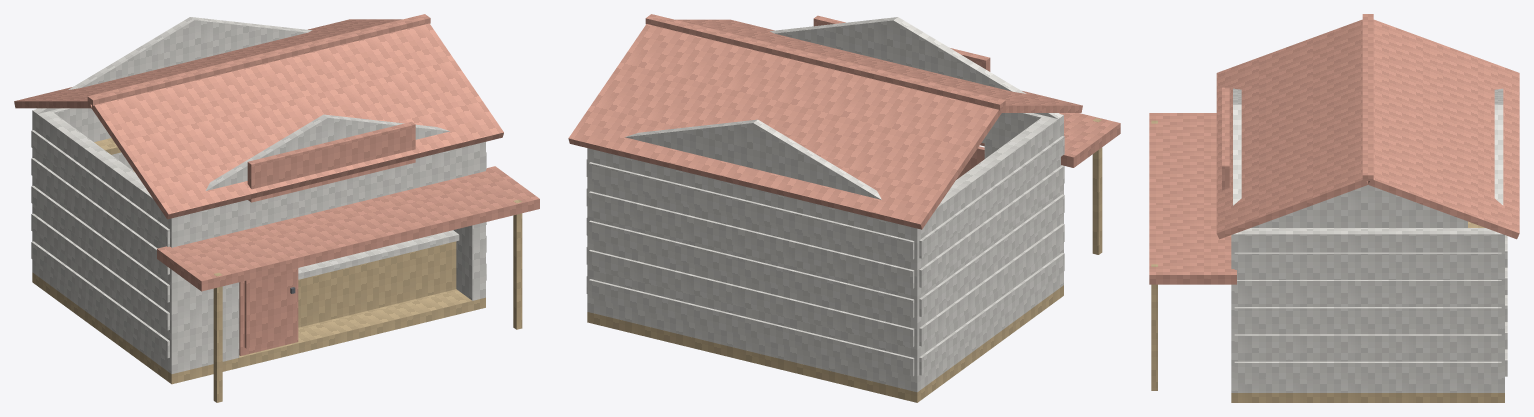
Rendered from pixel-modern-farm-farm-shop-ba9a894b__29105.glb.
3 views of the same model, side by side, from view 1: azimuth 30°, elevation 25°; view 2: azimuth 150°, elevation 25°; view 3: azimuth 270°, elevation 25° (orthographic). The views are drawn at different scales.
Visible parts, largest first — view 1: farm-shop, door/coral; view 2: farm-shop; view 3: farm-shop.
Boxes of the visible parts, x1,y1,x2,y2 form: farm-shop: (14, 14, 539, 402); door/coral: (239, 268, 298, 355); farm-shop: (568, 14, 1120, 402); farm-shop: (1149, 14, 1519, 402).
Size of the model in its own units: 7 by 4.7 by 6.77.
Materials: 6 (6 with a texture image).
